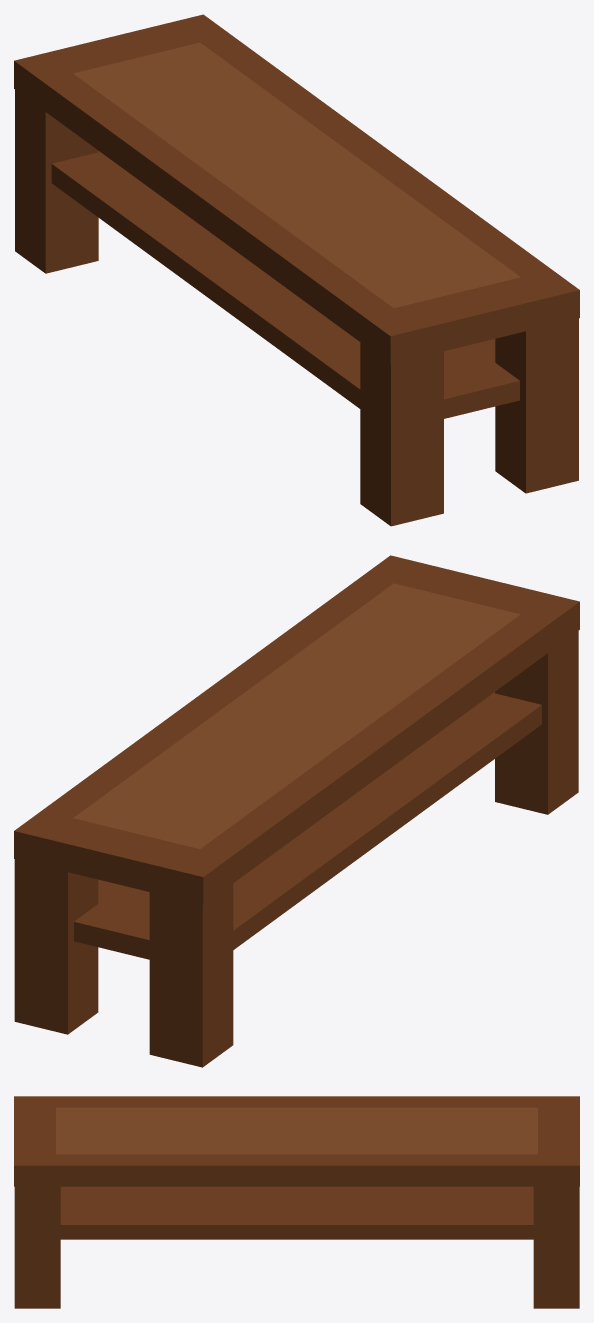
File: TVTable.fbx
3 renders of one model, top to bottom at view 1: azimuth 30°, elevation 25°; view 2: azimuth 150°, elevation 25°; view 3: azimuth 270°, elevation 25°, orthographic. The views are drawn at different scales.
Parts seen in each view (by area): view 1: Cube.8232; view 2: Cube.8232; view 3: Cube.8232.
Boxes of the visible parts, x1=… form: Cube.8232: x1=14, y1=14, x2=579, y2=526; Cube.8232: x1=14, y1=555, x2=579, y2=1067; Cube.8232: x1=14, y1=1096, x2=579, y2=1308.
Size of the model in its own units: 69.59 by 66.96 by 240.
1 material, 1 textured.
